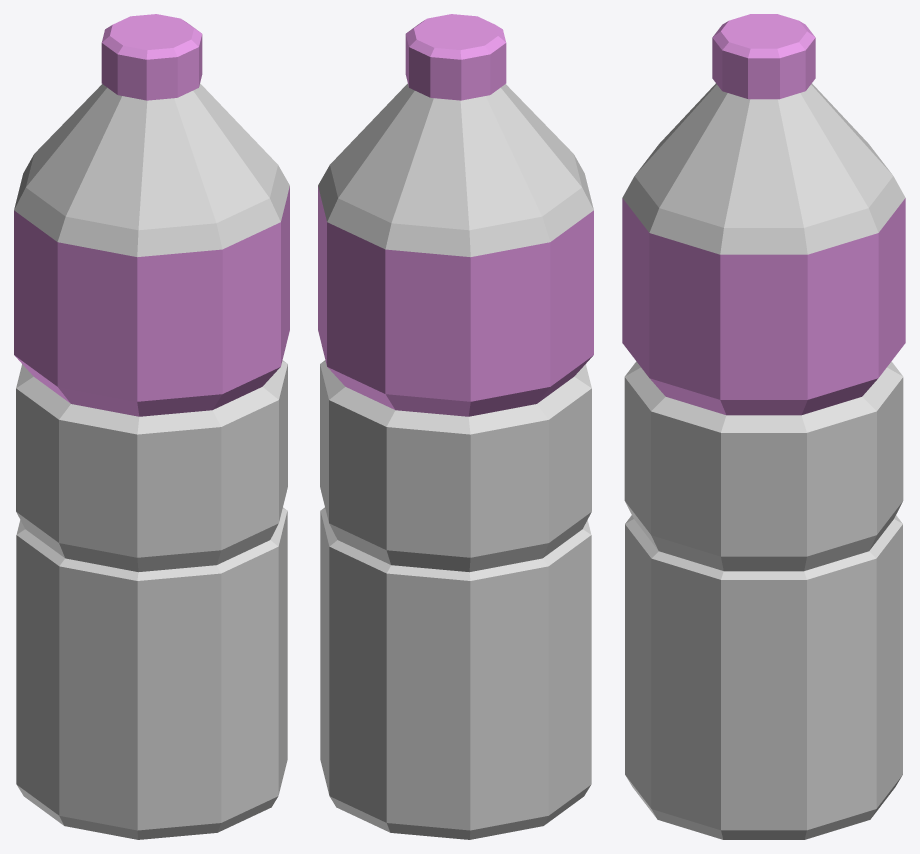
File: water bottle2.fbx
3 renders of one model, left to right at view 1: azimuth 30°, elevation 25°; view 2: azimuth 150°, elevation 25°; view 3: azimuth 270°, elevation 25°, orthographic.
Parts seen in each view (by area): view 1: Circle; view 2: Circle; view 3: Circle.
Boxes of the visible parts, x1,y1,x2,y2 form: Circle: (14,14,289,839); Circle: (318,14,593,839); Circle: (622,14,905,839).
Bounding box in the file's own units: 194 × 600 × 204.
